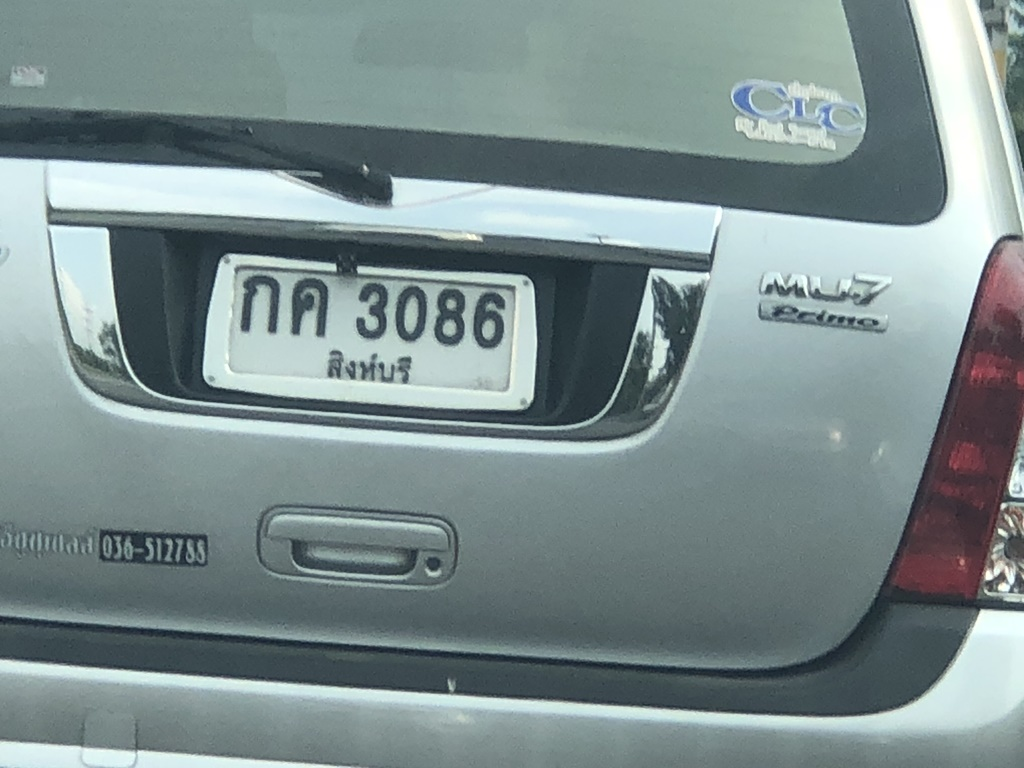eight: (431, 277, 468, 358)
six: (468, 284, 517, 358)
three: (347, 274, 392, 342)
zero: (392, 274, 429, 347)
